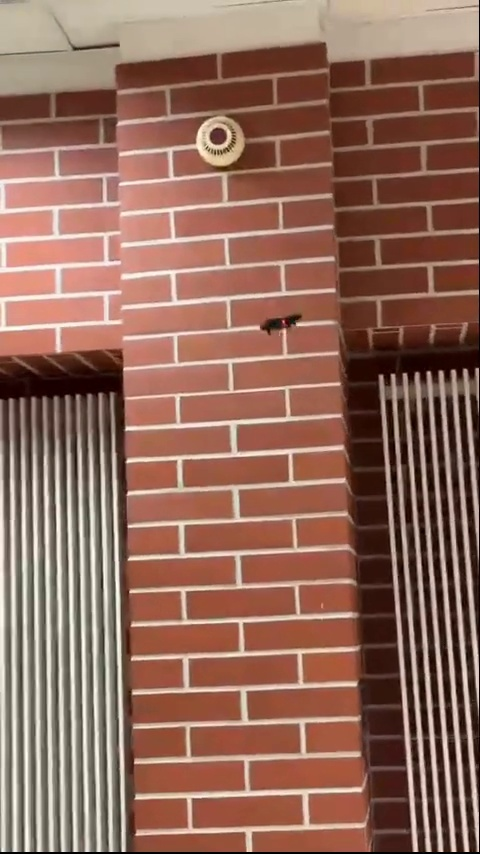drone: (265, 314, 303, 336)
